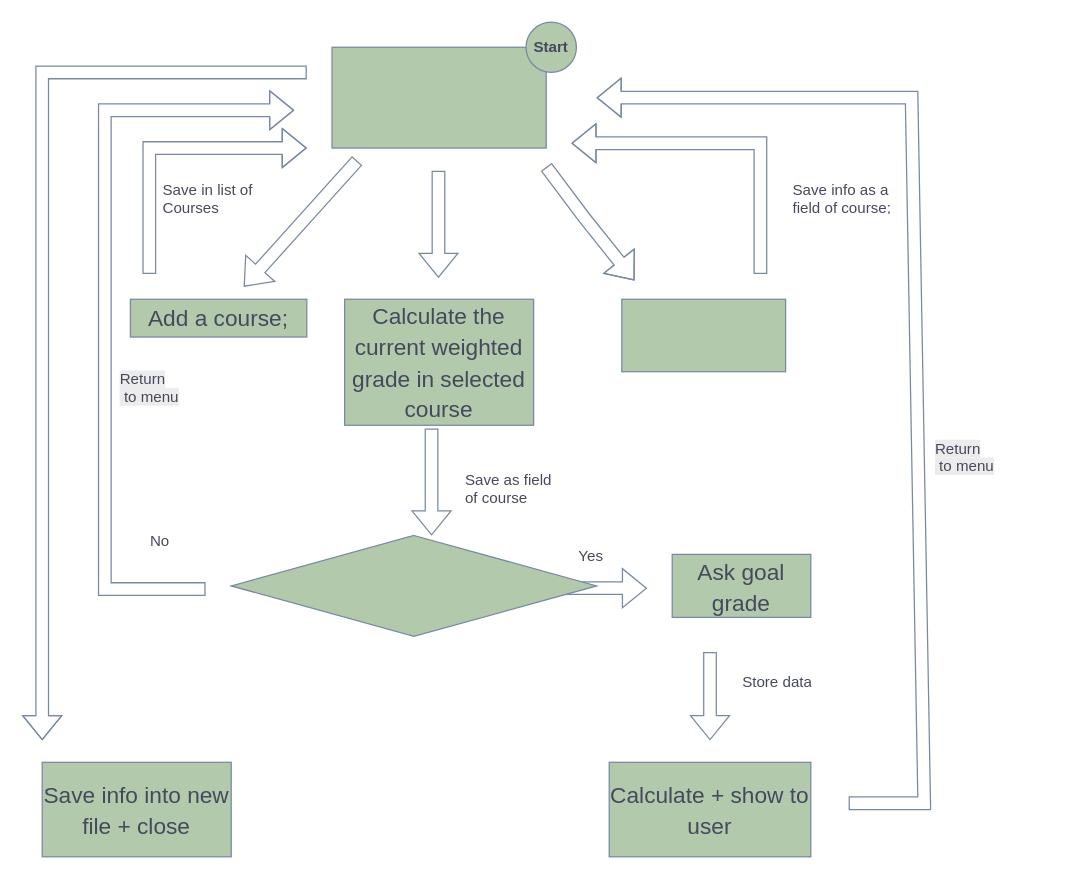
Some shapes in this 1067 by 879 pixel diagram are drawn without their labels. Here are the shapes that lost their labels. From the top down, the centre of each, then its label:
(438,97): Display welcome message + menu options
(703,335): Add an assignment;
(413,585): Offer "What do I need" calculation
